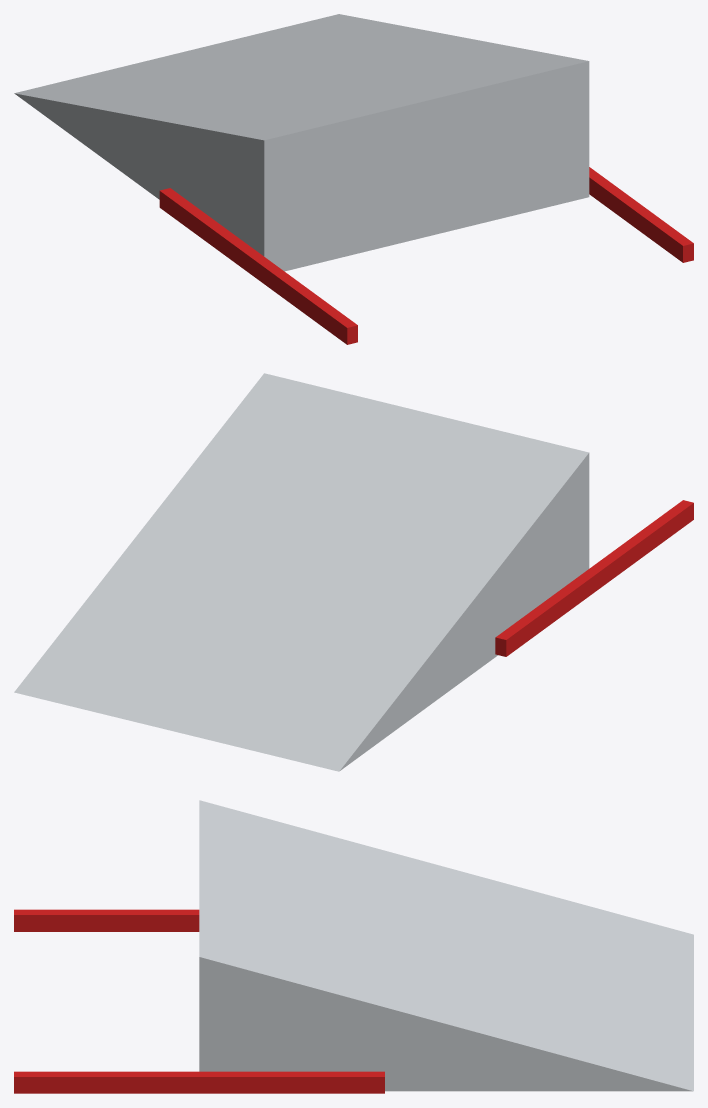
The model's file is ski_jump_ramp.glb.
3 views of the same model, one above another, from view 1: azimuth 30°, elevation 25°; view 2: azimuth 150°, elevation 25°; view 3: azimuth 270°, elevation 25° (orthographic).
Visible parts, largest first — view 1: ski_jump_ramp; view 2: ski_jump_ramp; view 3: ski_jump_ramp.
Boxes of the visible parts, x1,y1,x2,y2 form: ski_jump_ramp: (14, 14, 693, 344); ski_jump_ramp: (14, 373, 693, 771); ski_jump_ramp: (14, 800, 693, 1093).
Size of the model in its own units: 3.2 by 1.2 by 5.5.
